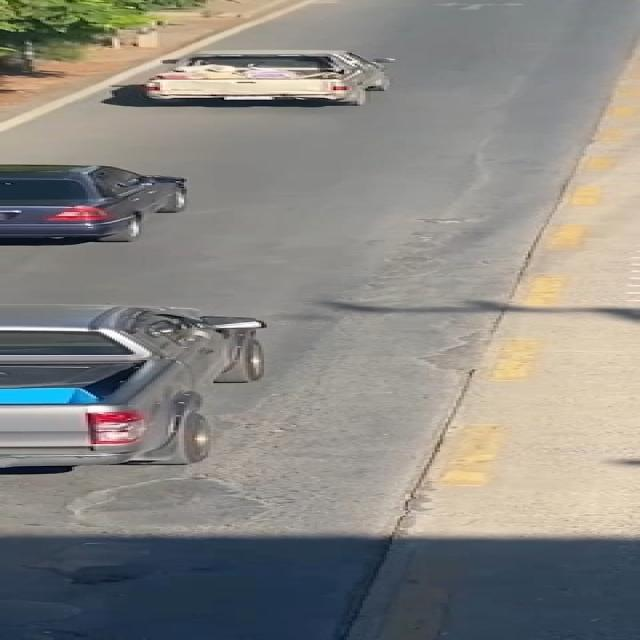car: (0, 290, 296, 483), (0, 156, 221, 252), (126, 45, 415, 110)
